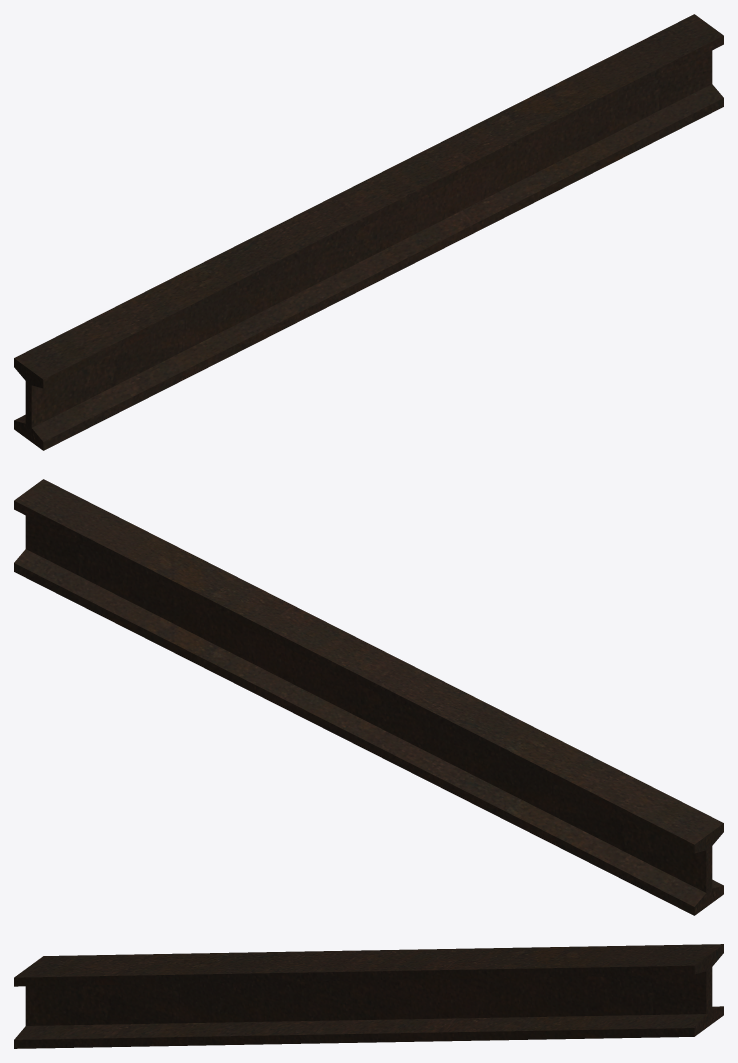
The model's file is beam_hc_horizonatal_2.fbx.
3 views of the same model, one above another, from view 1: azimuth 30°, elevation 25°; view 2: azimuth 150°, elevation 25°; view 3: azimuth 330°, elevation 25° (orthographic).
Visible parts, largest first — view 1: beam_hc_horizonatal_2; view 2: beam_hc_horizonatal_2; view 3: beam_hc_horizonatal_2.
Part boxes in pixels (x1,y1,x2,y2): beam_hc_horizonatal_2: [14, 14, 723, 450]; beam_hc_horizonatal_2: [14, 479, 723, 915]; beam_hc_horizonatal_2: [14, 944, 723, 1048].
Bounding box in the file's own units: 4 × 0.3 × 1.4.
